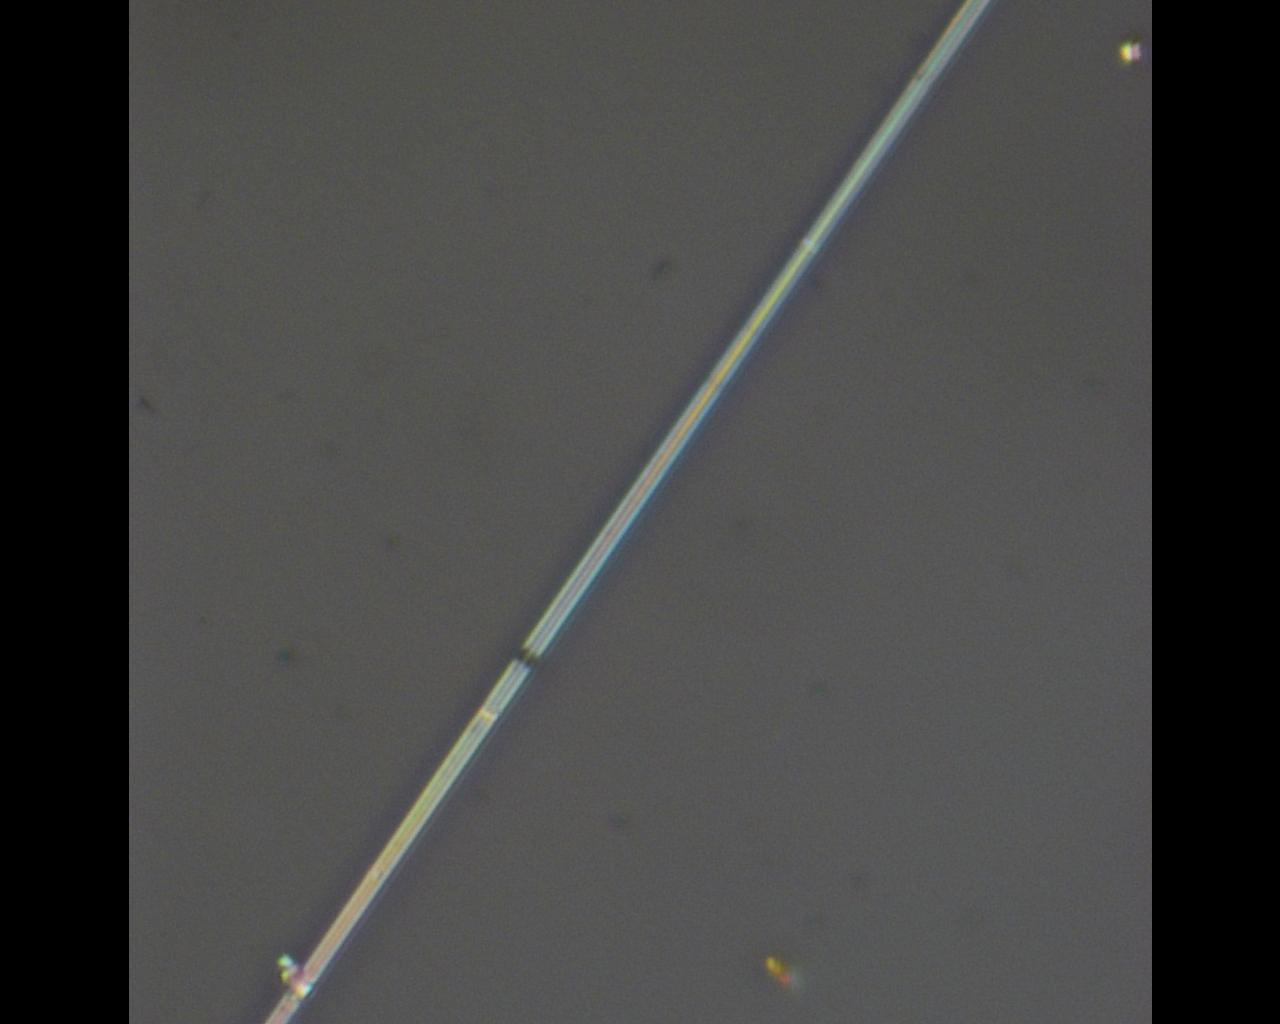fiber: (255, 0, 995, 1024)
